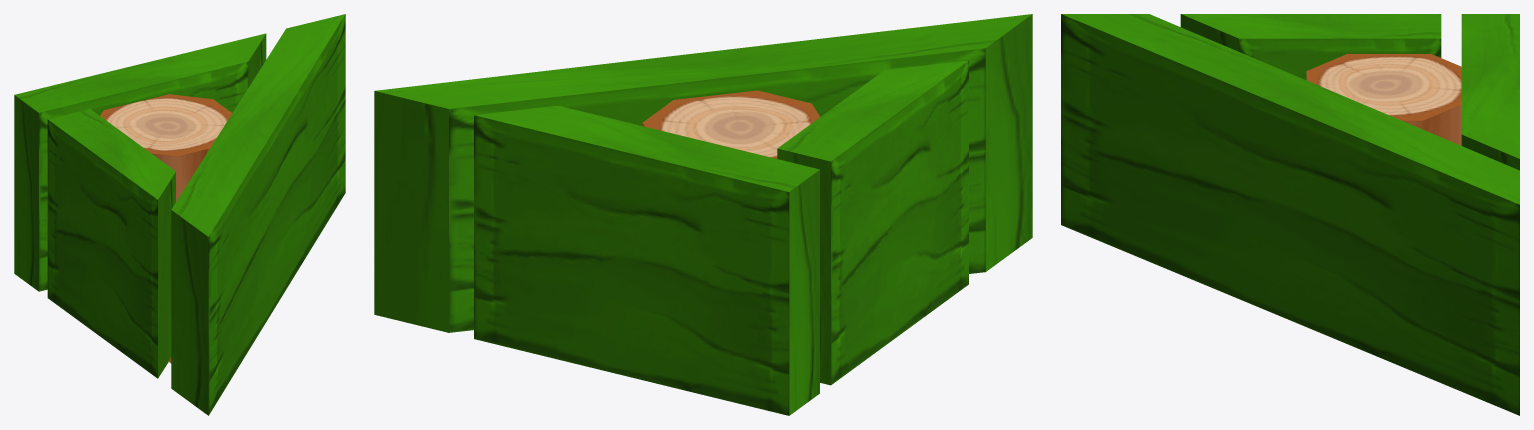
Rendered from triangle_green_01.fbx.
The picture shows the model from 3 angles, left to right: view 1: azimuth 30°, elevation 25°; view 2: azimuth 150°, elevation 25°; view 3: azimuth 270°, elevation 25°; orthographic projection. The views are drawn at different scales.
Parts seen in each view (by area): view 1: wall_39, wall_38, wall_37, Middle_12; view 2: wall_37, wall_39, wall_38, Middle_12; view 3: wall_39, wall_38, Middle_12, wall_37.
Part boxes in pixels (x1,y1,x2,y2): wall_39: (171,14,345,415); wall_38: (47,109,175,378); wall_37: (14,33,266,291); Middle_12: (100,94,232,201); wall_37: (474,105,819,415); wall_39: (374,14,1032,332); wall_38: (777,60,968,385); Middle_12: (642,90,819,158); wall_39: (1061,14,1519,415); wall_38: (1180,14,1441,80); Middle_12: (1306,54,1461,145); wall_37: (1461,14,1519,170).
Bounding box in the file's own units: 77.57 × 40 × 78.8.
